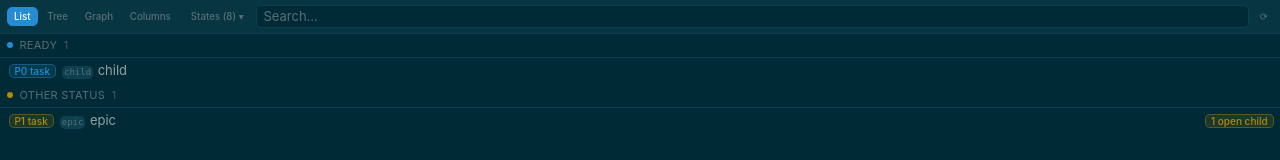
TreeView render (T3, FR2/FR4) › allows collapsing subtrees inside focus mode (e009)
The image size is (1280, 160).
Click the radio button with aria-label "Tree view" at (58, 16), box [40,6,76,26]
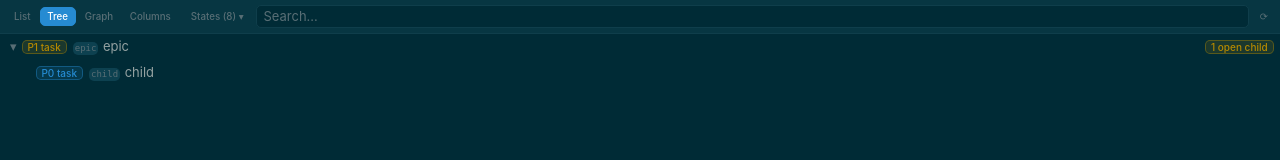
Note: Enter focus on the epic (double-click the row).
Double-click the 1st text "epic" at (86, 49), box [73,42,98,55]
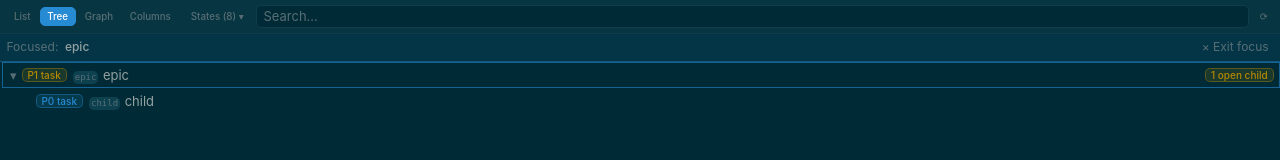
Result: the 1st text "child" is shown at [89,96,120,110]
Click the button named "Collapse" at (13, 75), box [8,66,18,85]
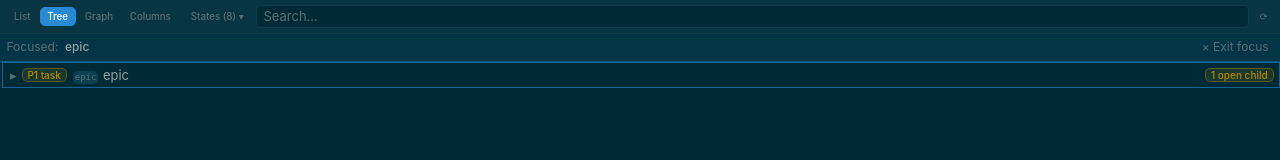
Click the button named "Expand" at (13, 75), box [8,66,18,85]
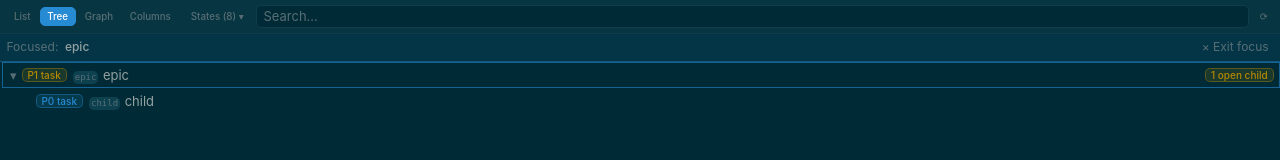
Result: the 1st text "child" is shown at [89,96,120,110]
